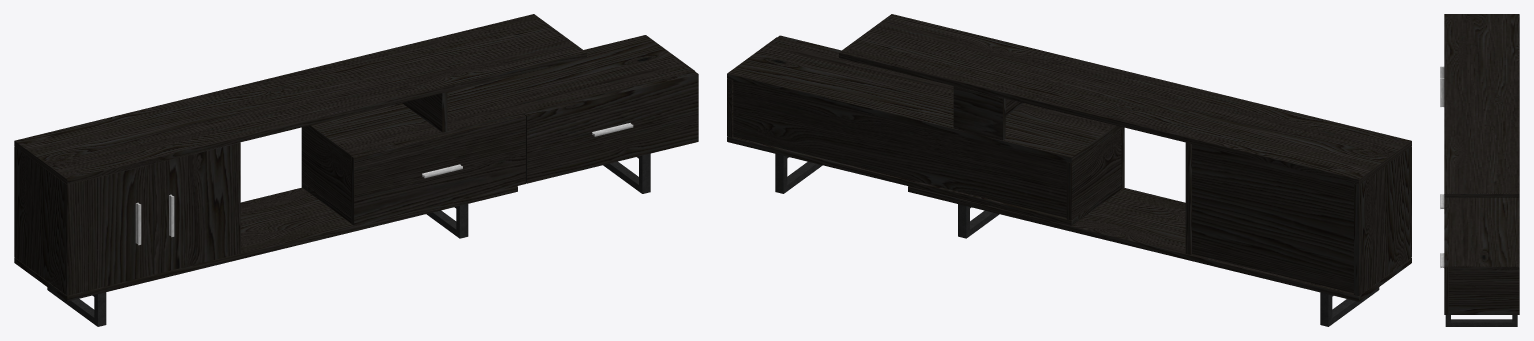
File: tvStand.glb
3 views of the same model, side by side, from view 1: azimuth 30°, elevation 25°; view 2: azimuth 150°, elevation 25°; view 3: azimuth 270°, elevation 25° (orthographic). The views are drawn at different scales.
Visible parts, largest first — view 1: TV_Cabinet; view 2: TV_Cabinet; view 3: TV_Cabinet.
Part boxes in pixels (x1,y1,x2,y2): TV_Cabinet: (14, 14, 698, 326); TV_Cabinet: (727, 14, 1411, 326); TV_Cabinet: (1440, 14, 1519, 326).
Bounding box in the file's own units: 6.55 × 1.55 × 1.
Materials: 1 (1 with a texture image).
